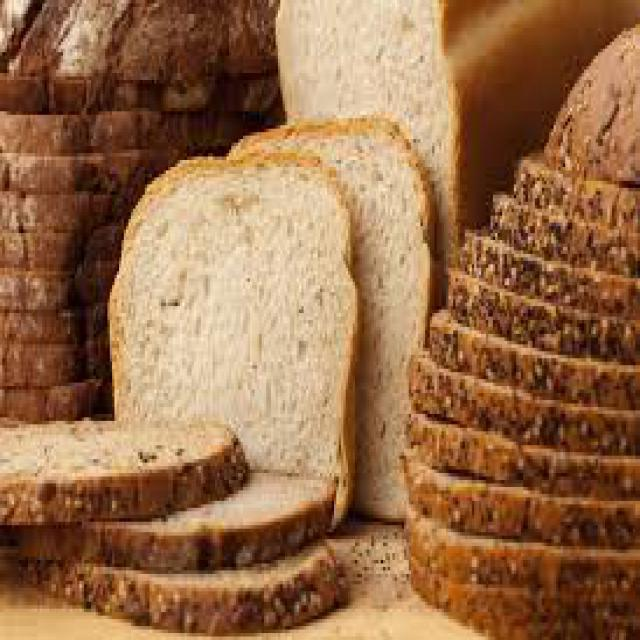Bread: (109, 120, 428, 532)
